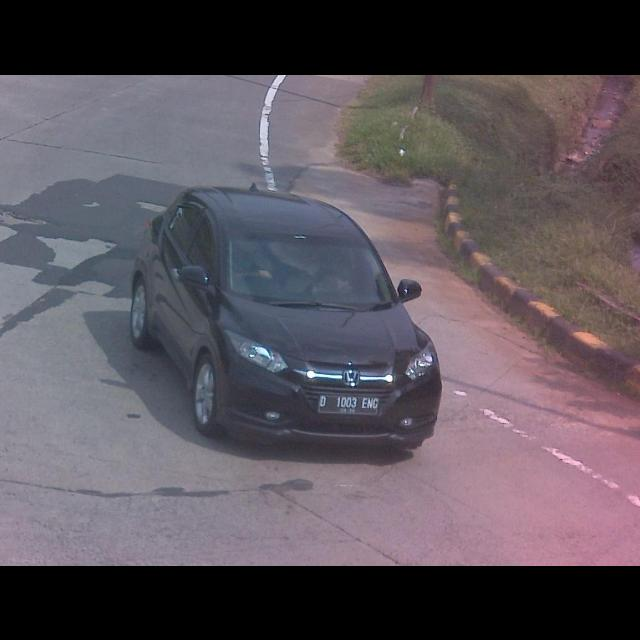plate: (316, 393, 381, 415)
